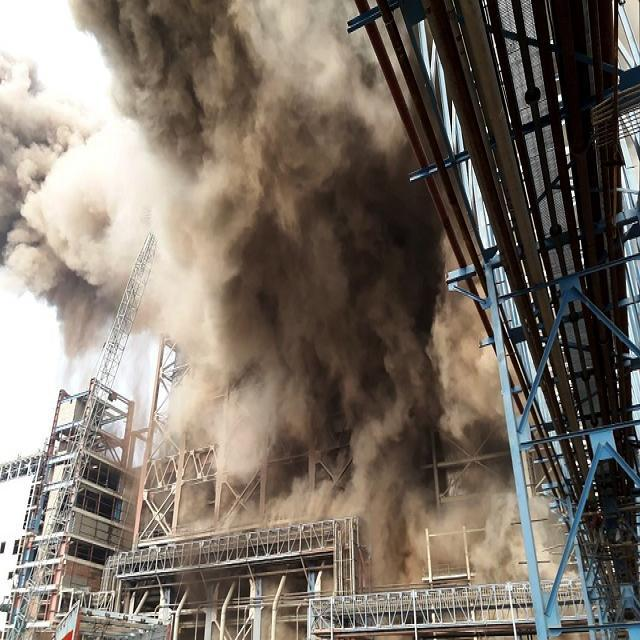Smoke: (308, 295, 576, 588), (236, 0, 476, 292), (0, 0, 234, 291), (101, 294, 310, 543)
